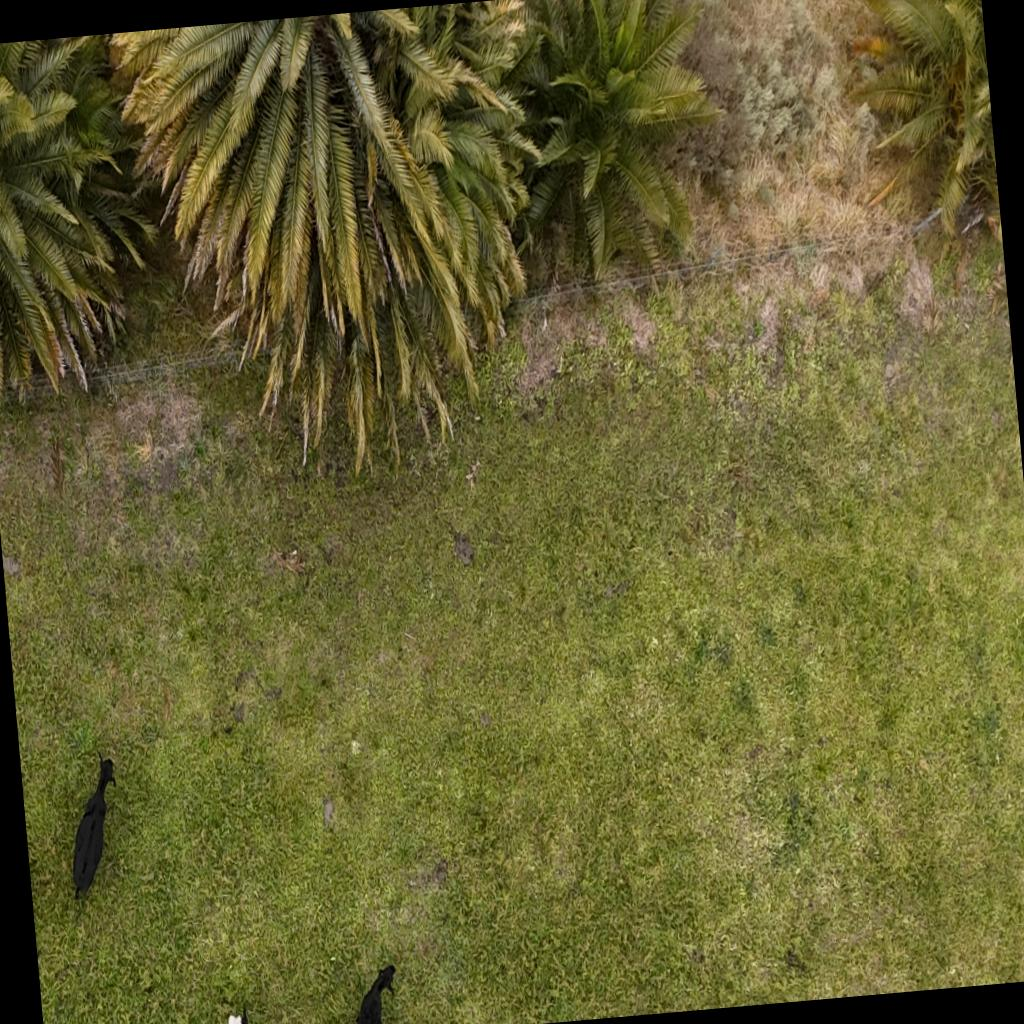cow: (58, 749, 128, 900)
